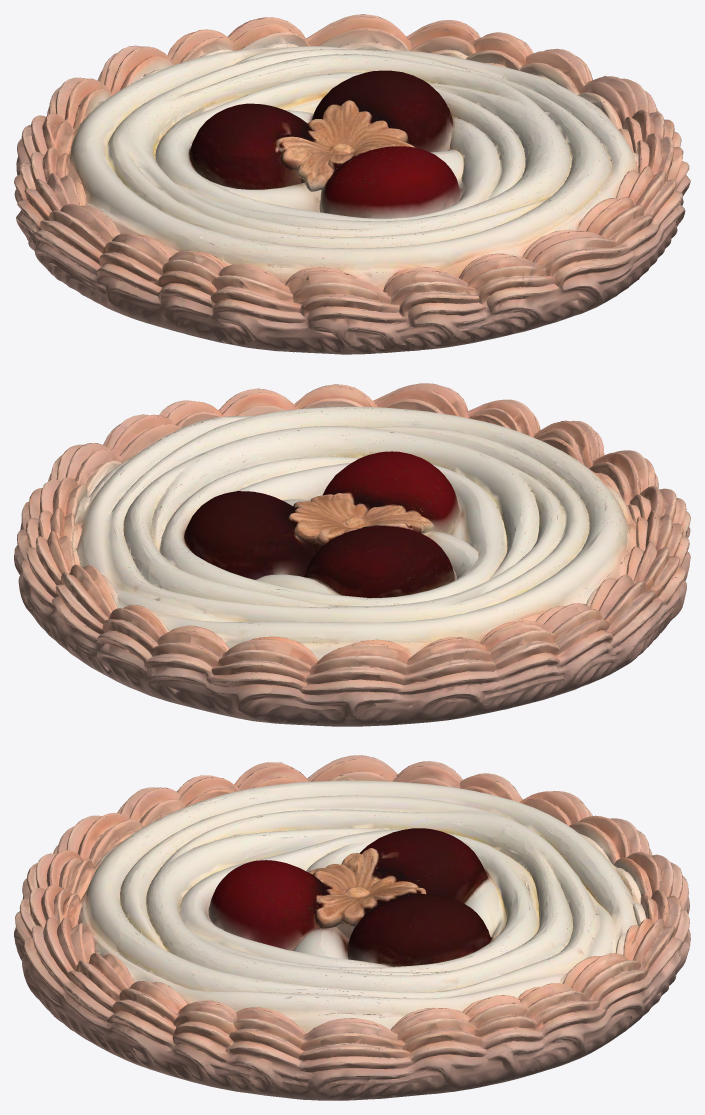
File: assembly-14-connected-topper.glb
The picture shows the model from 3 angles, top to bottom: view 1: azimuth 30°, elevation 25°; view 2: azimuth 150°, elevation 25°; view 3: azimuth 270°, elevation 25°; orthographic projection.
Parts seen in each view (by area): view 1: assembly-14; view 2: assembly-14; view 3: assembly-14.
Part boxes in pixels (box(x1,y1,x2,y2)): assembly-14: box(14, 14, 690, 354); assembly-14: box(14, 383, 690, 726); assembly-14: box(14, 755, 690, 1100).
Size of the model in its own units: 2 by 0.3207 by 1.97.
Materials: 1 (1 with a texture image).
